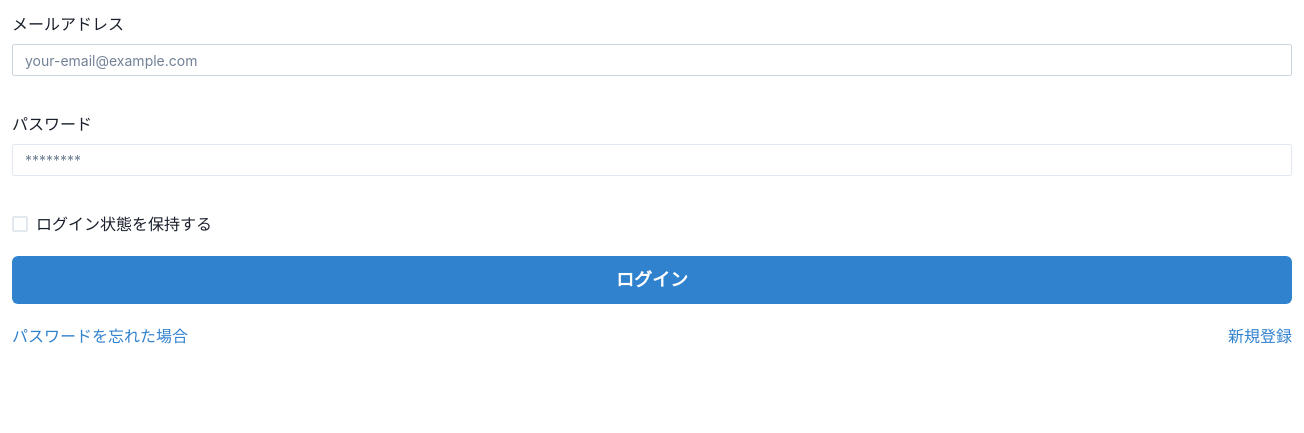
Test: LoginForm › axiosエラーレスポンスのメッセージが空の場合、デフォルトメッセージが表示されること
In the field labelled "メールアドレス": (652, 60) [12,44,1292,76], type "test@example.com"
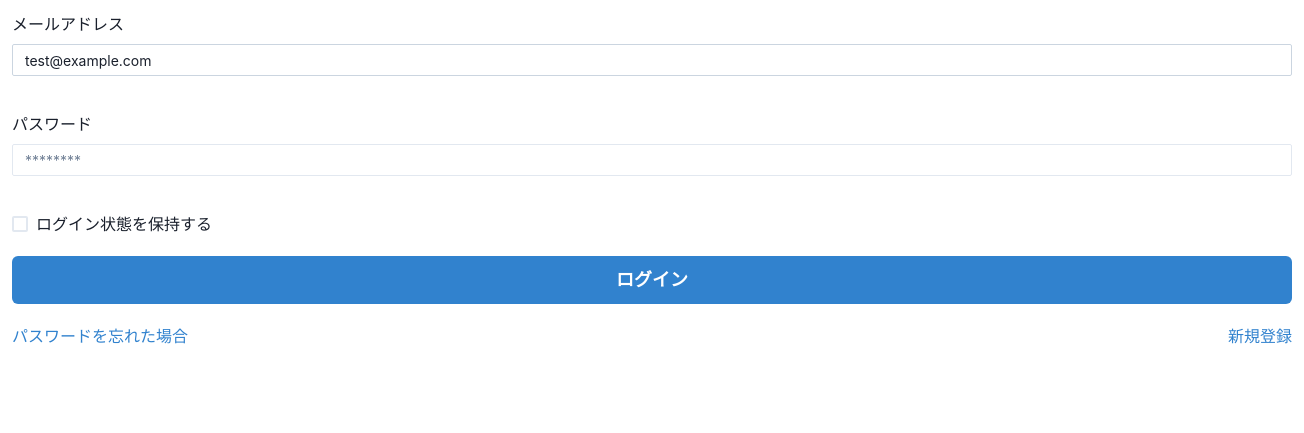
In the password field labelled "パスワード": (652, 160) [12,144,1292,176], type "password123"
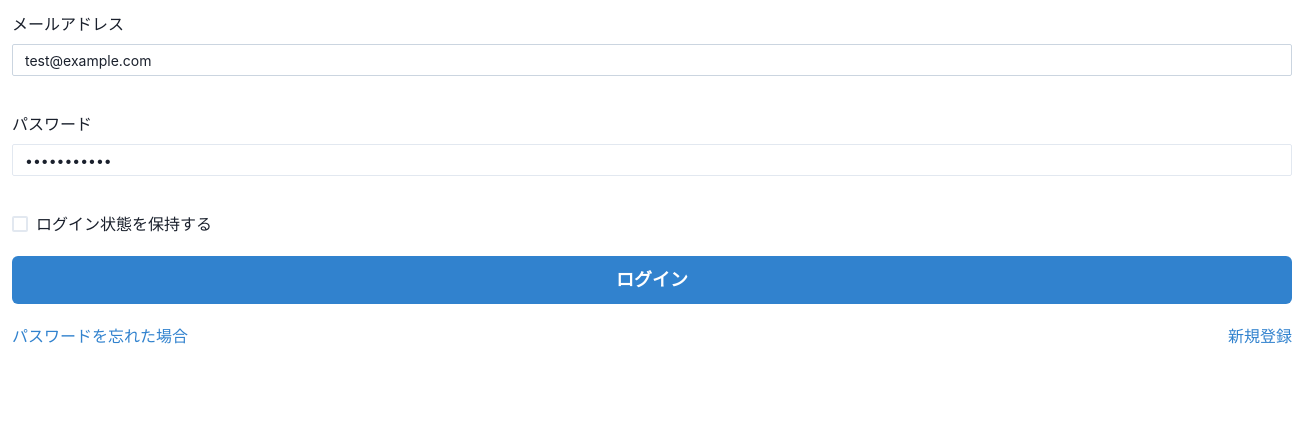
Click the button "ログイン": (652, 280) [12,256,1292,304]
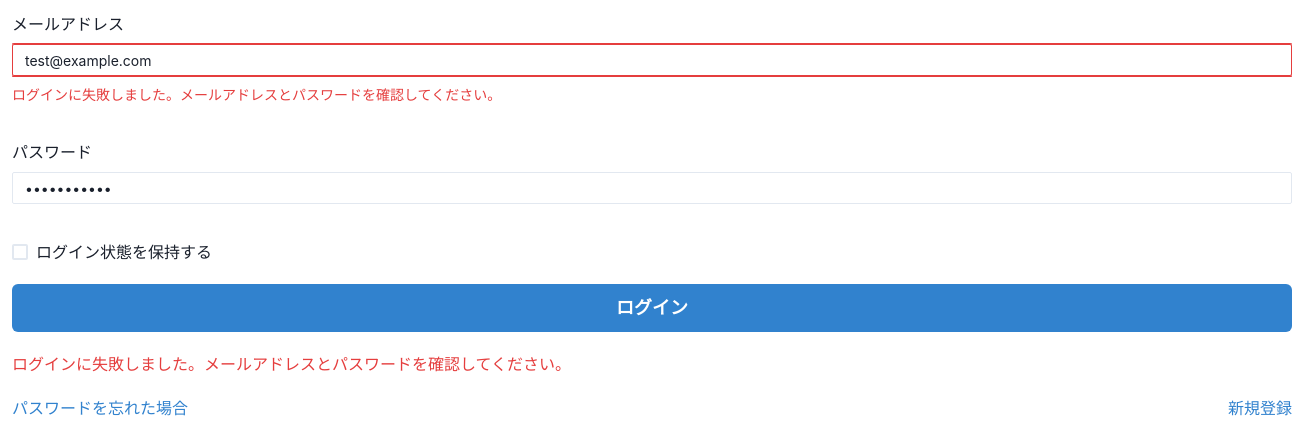
Expected: the 1st text "ログインに失敗しました。メールアドレスとパスワードを確認してください。" is shown, [12,86,501,103]
